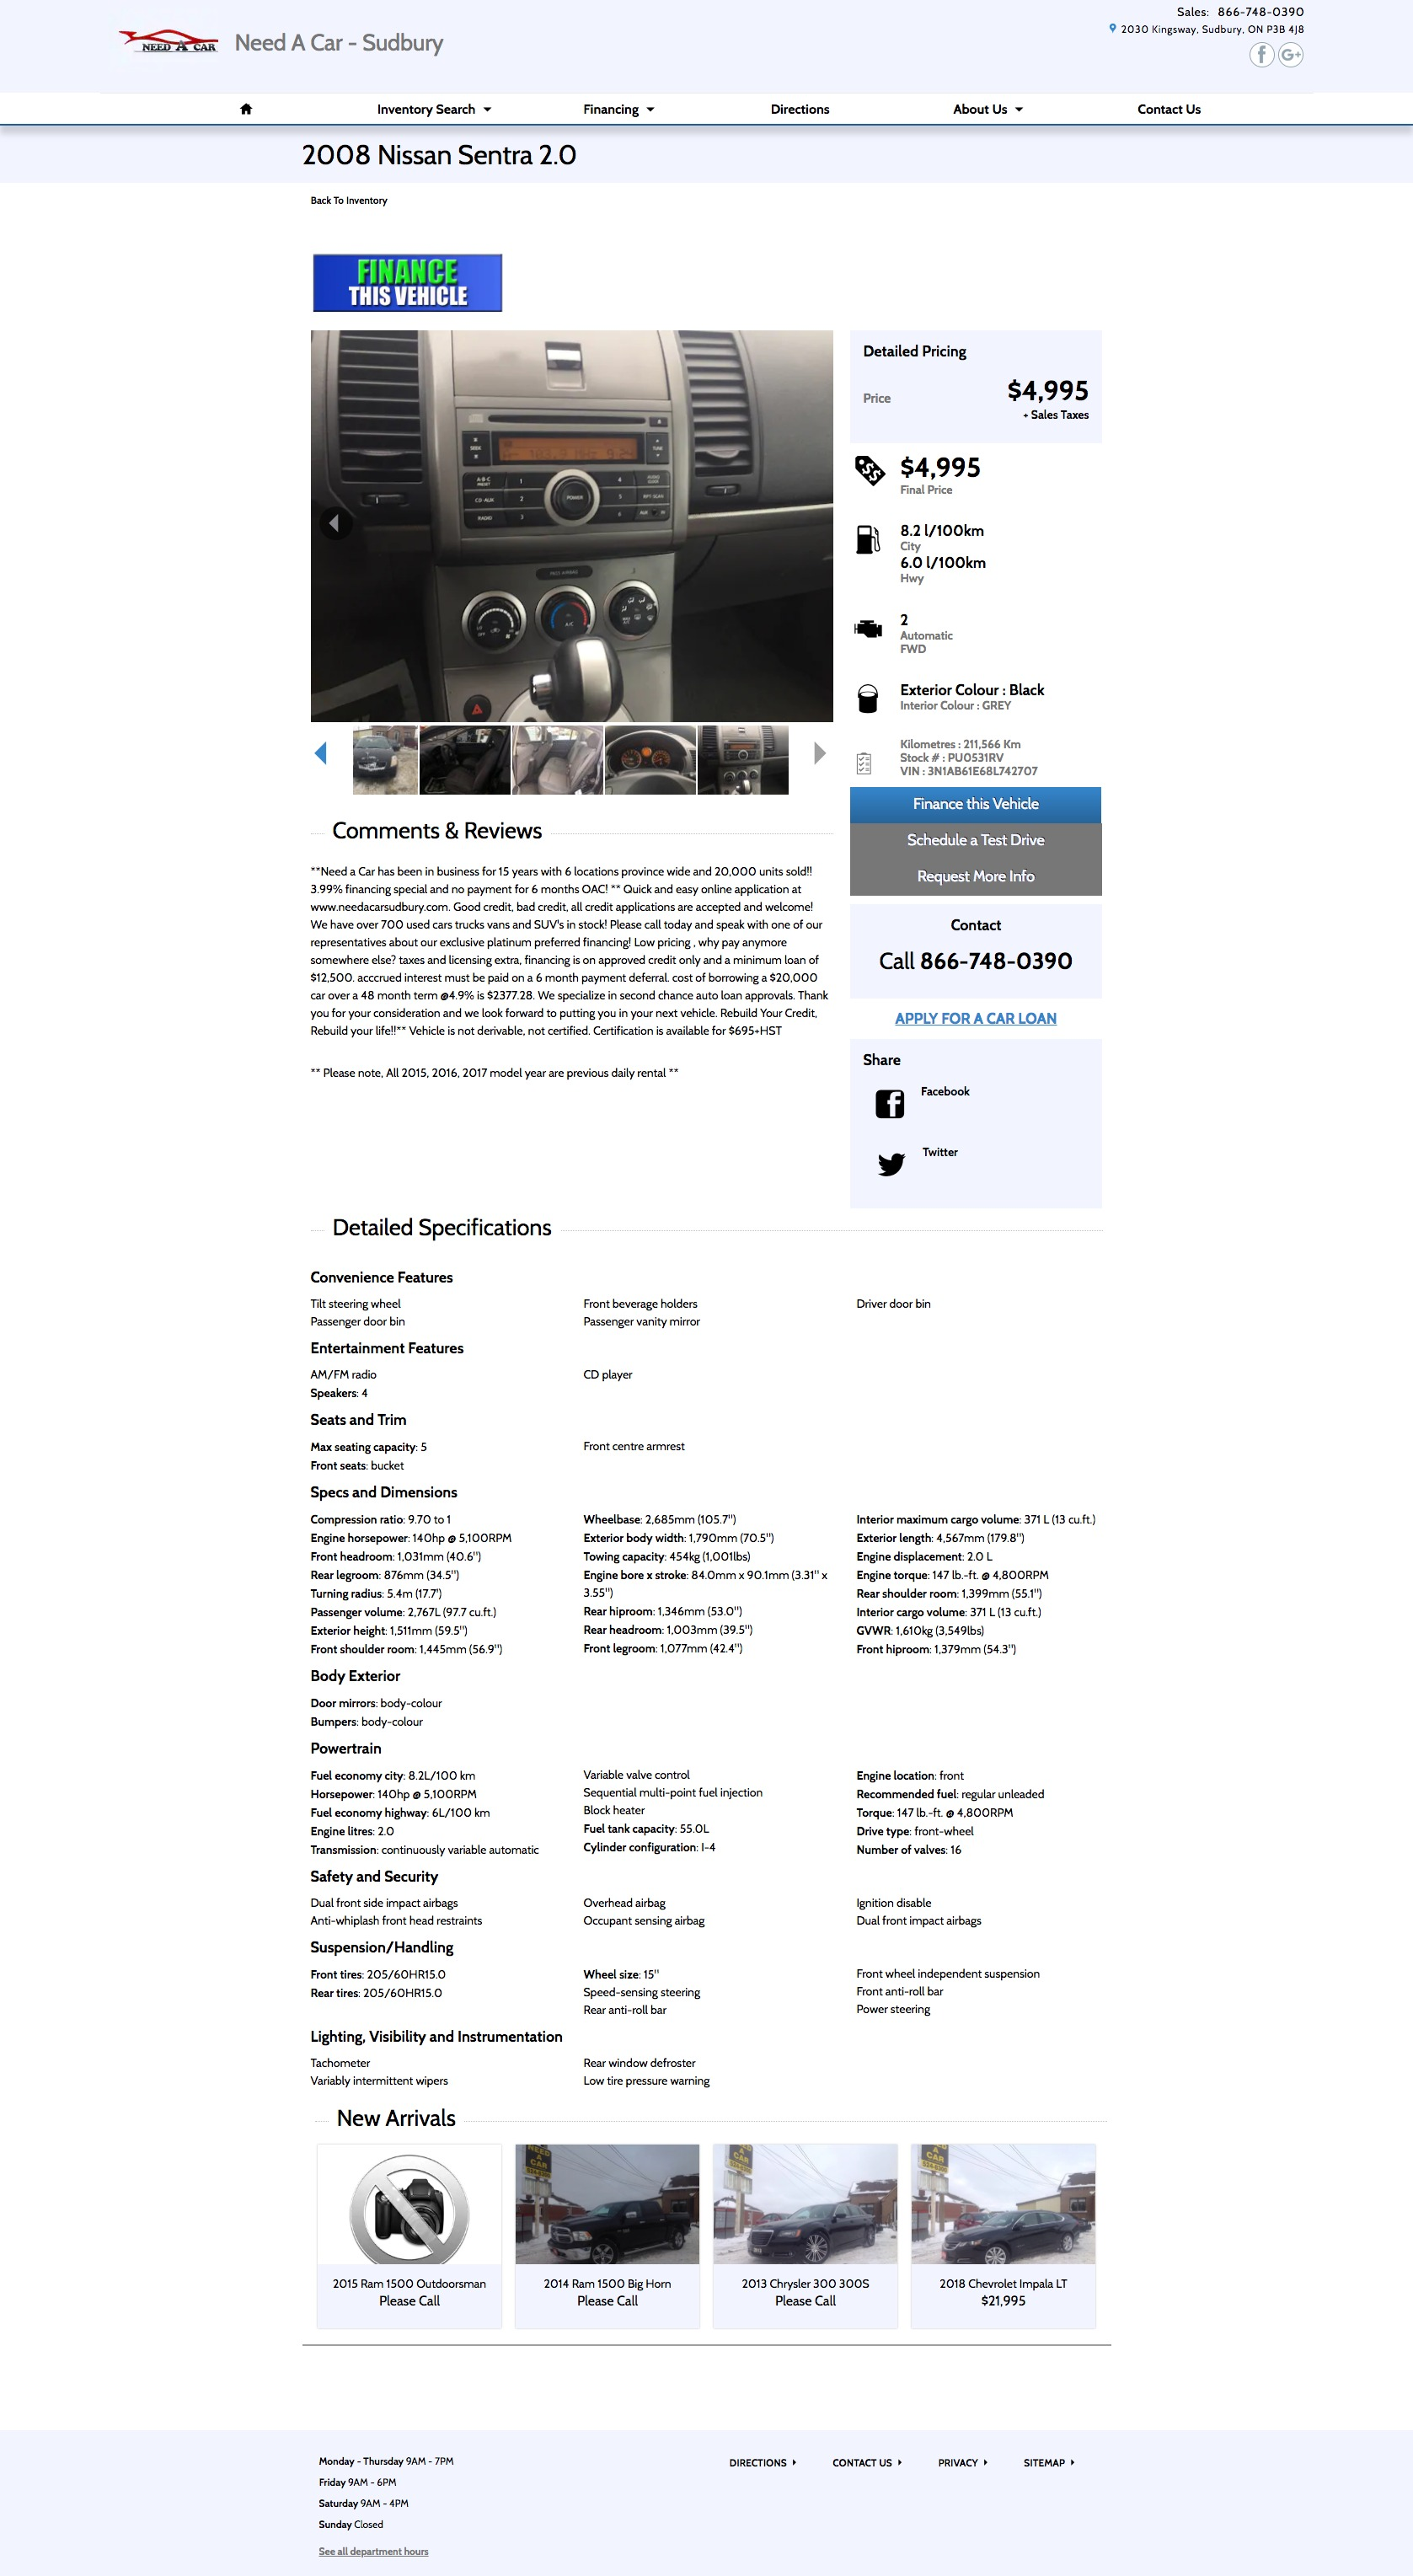car: (814, 741, 827, 765)
